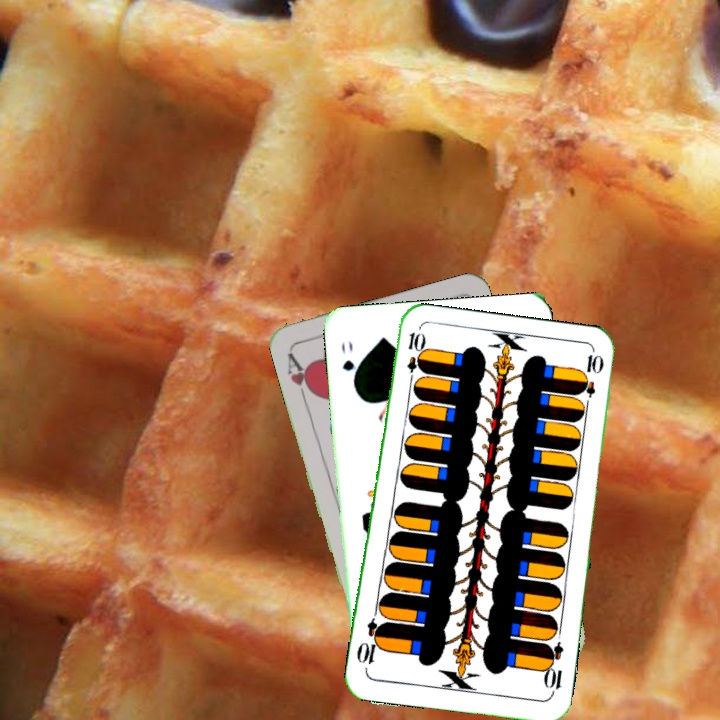E10: (539, 639, 566, 698), (403, 328, 423, 387)
GO: (337, 336, 361, 390)
HA: (283, 348, 318, 405)
